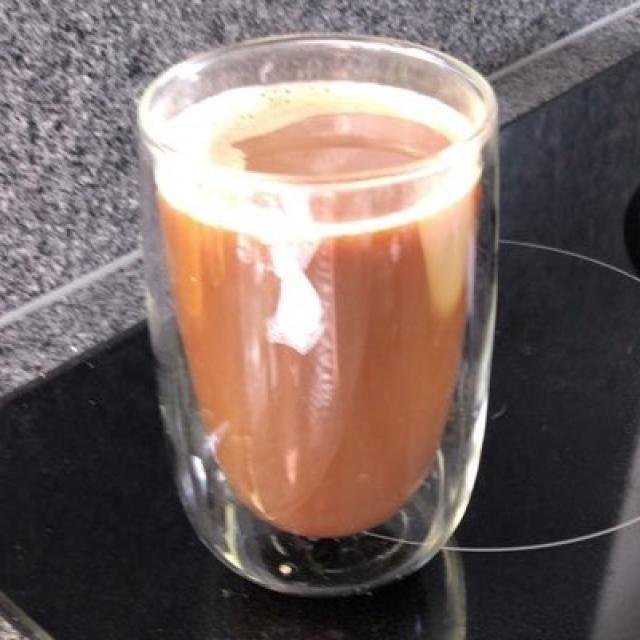coffee: (151, 82, 486, 538)
